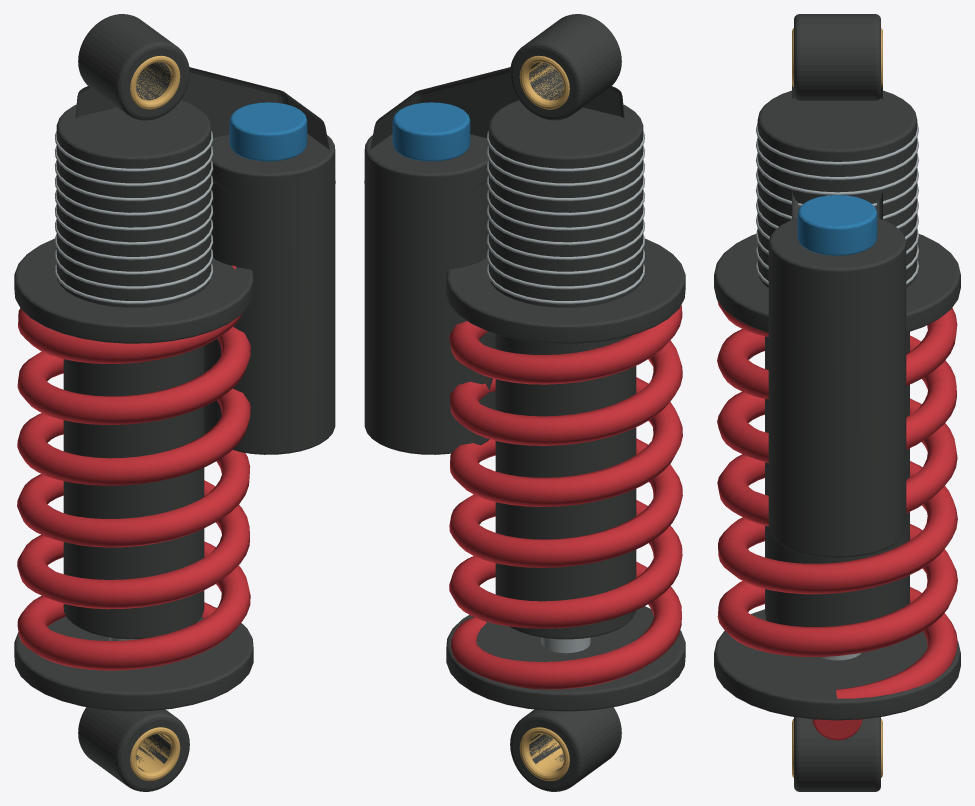
File: rockshox-vivid-coil-ultimate-d1--700100f6.glb
The picture shows the model from 3 angles, left to right: view 1: azimuth 30°, elevation 25°; view 2: azimuth 150°, elevation 25°; view 3: azimuth 270°, elevation 25°; orthographic projection. The views are drawn at different scales.
Visible parts, largest first — view 1: rockshox-vivid-coil-ultimate-d1--700100f6__link, rockshox-vivid-coil-ultimate-d1--700100f6__rebound, rockshox-vivid-coil-ultimate-d1--700100f6__bolts, rockshox-vivid-coil-ultimate-d1--700100f6__adjuster, rockshox-vivid-coil-ultimate-d1--700100f6__stanchions; view 2: rockshox-vivid-coil-ultimate-d1--700100f6__link, rockshox-vivid-coil-ultimate-d1--700100f6__rebound, rockshox-vivid-coil-ultimate-d1--700100f6__bolts, rockshox-vivid-coil-ultimate-d1--700100f6__adjuster, rockshox-vivid-coil-ultimate-d1--700100f6__stanchions; view 3: rockshox-vivid-coil-ultimate-d1--700100f6__link, rockshox-vivid-coil-ultimate-d1--700100f6__rebound, rockshox-vivid-coil-ultimate-d1--700100f6__adjuster, rockshox-vivid-coil-ultimate-d1--700100f6__bolts, rockshox-vivid-coil-ultimate-d1--700100f6__stanchions.
Boxes of the visible parts, bbox=[...] form: rockshox-vivid-coil-ultimate-d1--700100f6__link: bbox=[14, 14, 335, 791]; rockshox-vivid-coil-ultimate-d1--700100f6__rebound: bbox=[17, 265, 250, 670]; rockshox-vivid-coil-ultimate-d1--700100f6__bolts: bbox=[54, 131, 213, 640]; rockshox-vivid-coil-ultimate-d1--700100f6__adjuster: bbox=[229, 102, 307, 161]; rockshox-vivid-coil-ultimate-d1--700100f6__stanchions: bbox=[130, 55, 180, 780]; rockshox-vivid-coil-ultimate-d1--700100f6__link: bbox=[364, 14, 685, 791]; rockshox-vivid-coil-ultimate-d1--700100f6__rebound: bbox=[449, 305, 682, 689]; rockshox-vivid-coil-ultimate-d1--700100f6__bolts: bbox=[486, 131, 645, 653]; rockshox-vivid-coil-ultimate-d1--700100f6__adjuster: bbox=[392, 102, 470, 161]; rockshox-vivid-coil-ultimate-d1--700100f6__stanchions: bbox=[519, 55, 569, 780]; rockshox-vivid-coil-ultimate-d1--700100f6__link: bbox=[714, 14, 960, 791]; rockshox-vivid-coil-ultimate-d1--700100f6__rebound: bbox=[717, 301, 957, 740]; rockshox-vivid-coil-ultimate-d1--700100f6__adjuster: bbox=[797, 195, 877, 255]; rockshox-vivid-coil-ultimate-d1--700100f6__bolts: bbox=[756, 123, 918, 660]; rockshox-vivid-coil-ultimate-d1--700100f6__stanchions: bbox=[792, 28, 882, 777].
Size of the model in its own units: 0.097 by 0.234 by 0.068.
